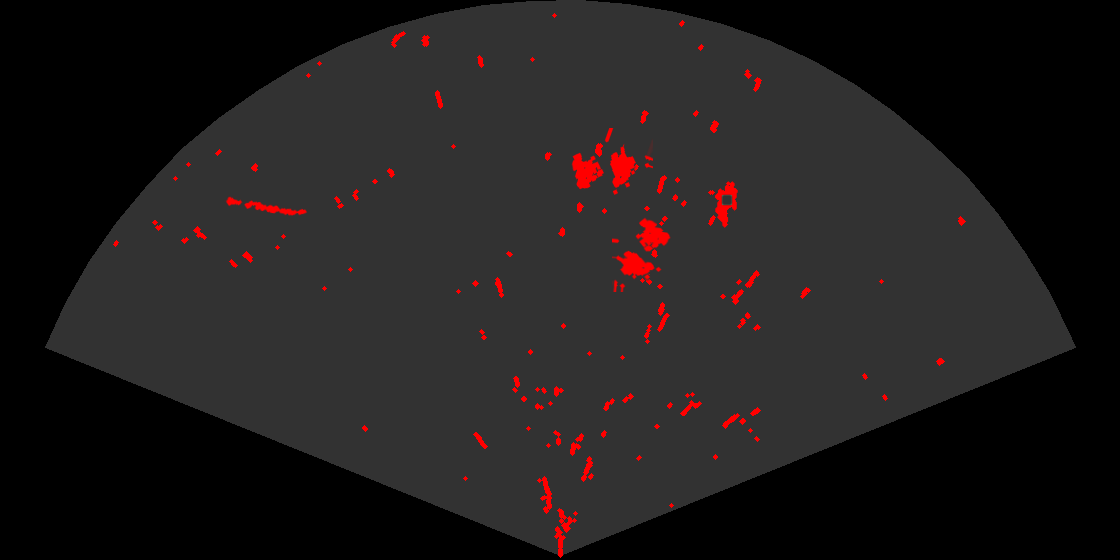AUV: (713, 180, 739, 229)
cage: (570, 128, 653, 196), (612, 216, 672, 292)
chain: (223, 195, 308, 217)
